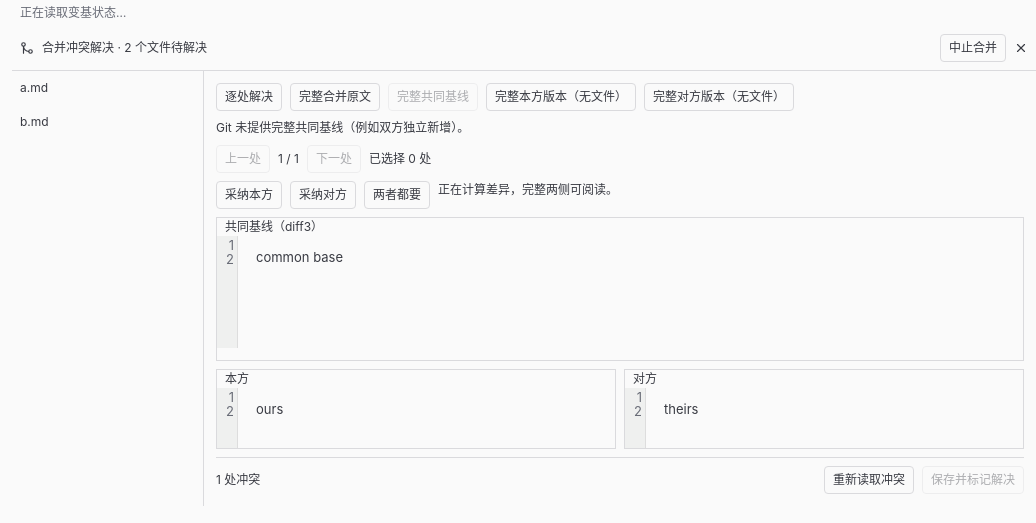
diff3 共同基线可见，必须明确采纳后才允许保存
Expected: the text "共同基线（diff3）" is shown, [225,219,323,234]
Expected: the field named "当前冲突共同基线" reads "common base", [256,249,343,265]
What coordinates should you click on to do the following:
click the button "采纳本方"
I would click on:
 (249, 195)
Its box is [216,181,282,209].
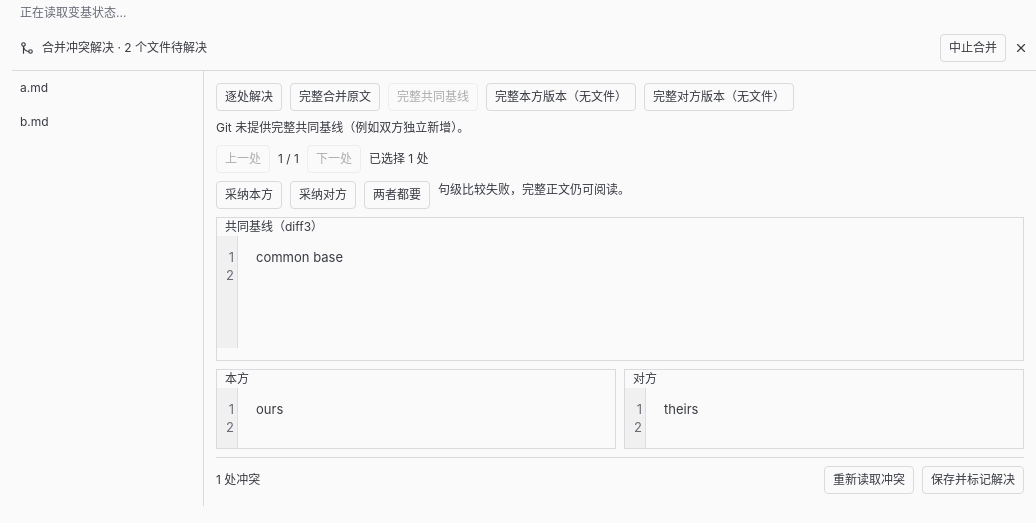
Expected: the button "保存并标记解决" is enabled, [922,466,1024,494]
